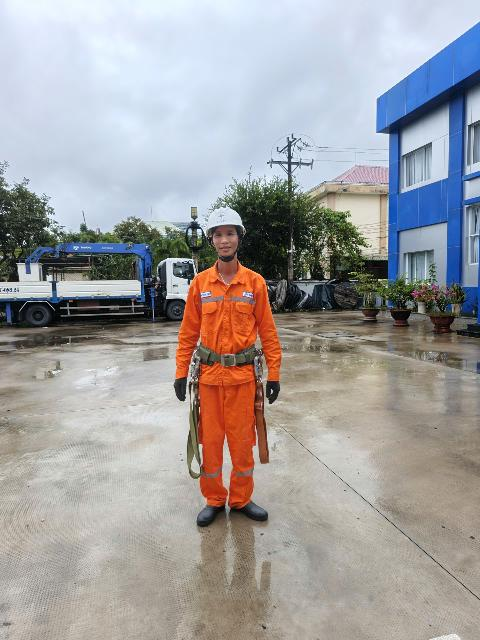gloves: (171, 372, 193, 408), (260, 376, 284, 401)
harness: (197, 332, 265, 376)
helmet: (197, 201, 249, 245)
shoes: (221, 490, 269, 523), (197, 496, 229, 526)
